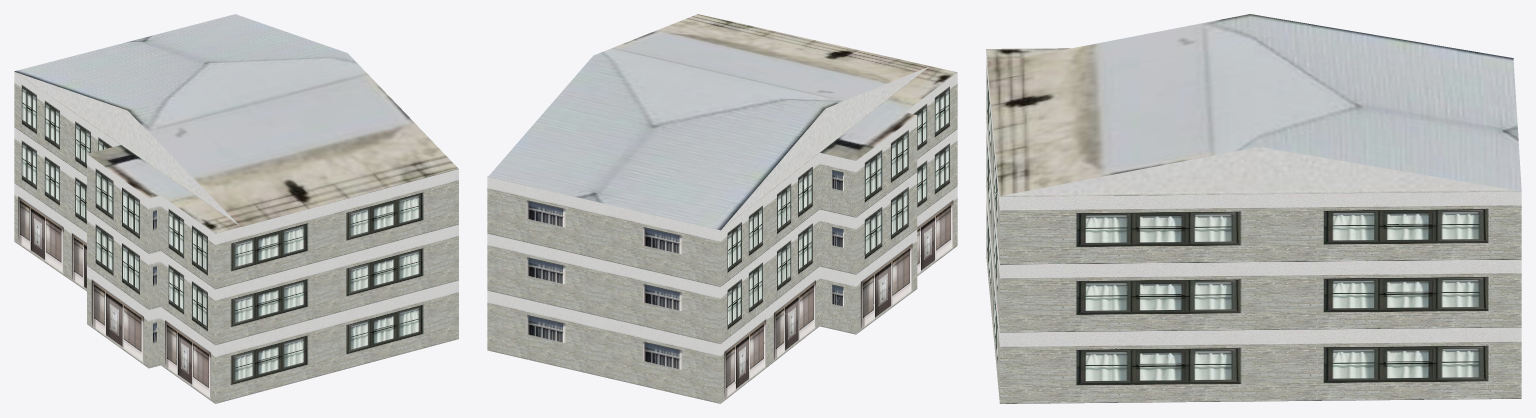
The model's file is tile_LOD8_r5_c4.glb.
3 renders of one model, left to right at view 1: azimuth 30°, elevation 25°; view 2: azimuth 150°, elevation 25°; view 3: azimuth 270°, elevation 25°, orthographic. The views are drawn at different scales.
Bounding box in the file's own units: 15.52 × 11.76 × 22.44.
Materials: 5 (5 with a texture image).
